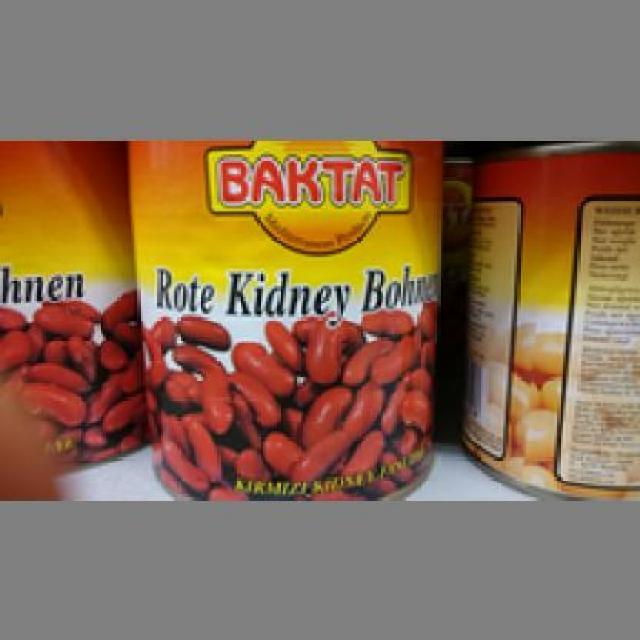Beans: (126, 137, 448, 503), (0, 137, 123, 490)
